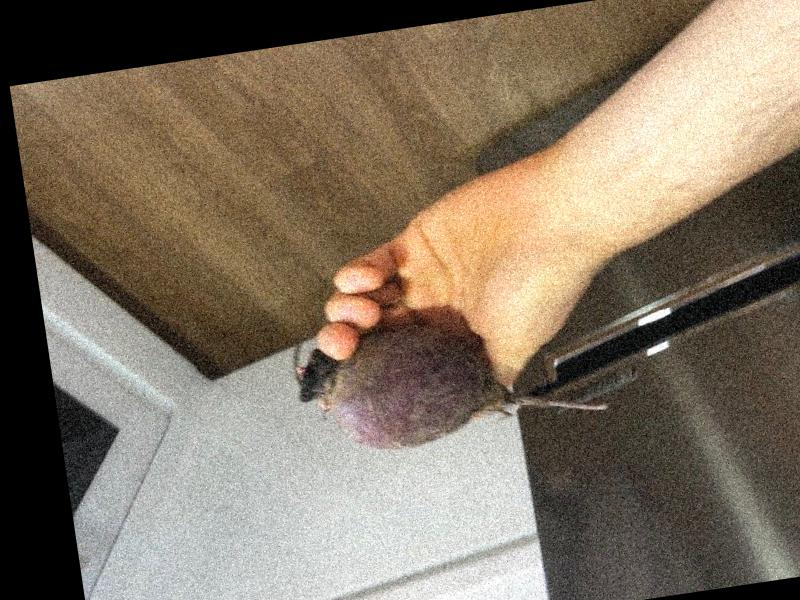Beet: (288, 298, 608, 463)
